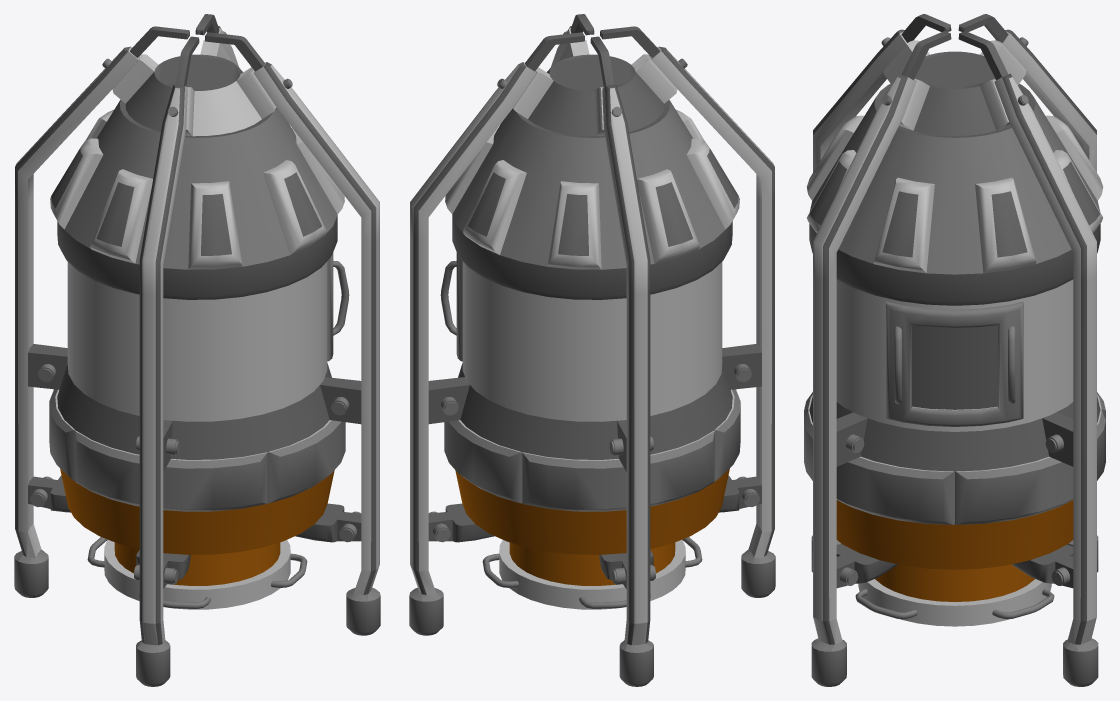
The model's file is SpacePod.fbx.
The picture shows the model from 3 angles, left to right: view 1: azimuth 30°, elevation 25°; view 2: azimuth 150°, elevation 25°; view 3: azimuth 270°, elevation 25°; orthographic projection. The views are drawn at different scales.
Parts seen in each view (by area): view 1: Cylinder, Plane, Plane.002; view 2: Cylinder, Plane, Plane.002; view 3: Cylinder, Plane.002, Plane.
Part boxes in pixels (x1,y1,x2,y2): Cylinder: (14,14,380,686); Plane: (87,537,307,608); Plane.002: (333,261,349,335); Cylinder: (409,14,775,686); Plane: (482,537,702,608); Plane.002: (440,261,456,335); Cylinder: (804,14,1105,686); Plane.002: (894,326,1015,404); Plane: (855,589,1054,619).
Size of the model in its own units: 207 by 454 by 207.
